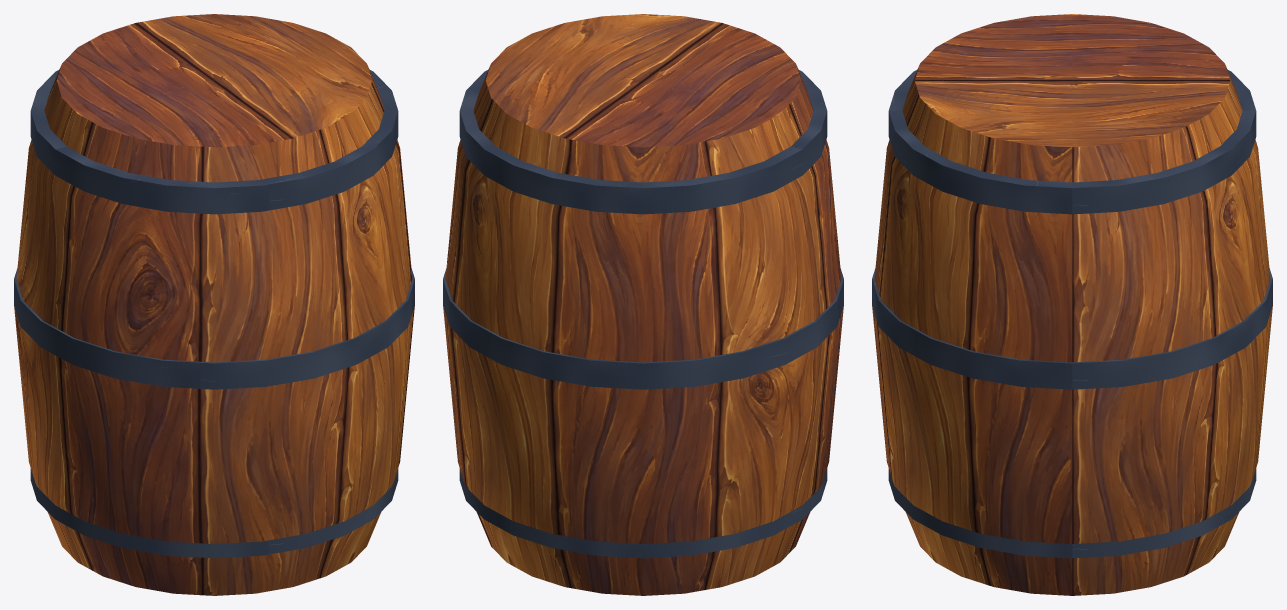
File: Barrel.fbx
3 views of the same model, side by side, from view 1: azimuth 30°, elevation 25°; view 2: azimuth 150°, elevation 25°; view 3: azimuth 270°, elevation 25° (orthographic).
Visible parts, largest first — view 1: Barrel staves, Barrel iron hoop.002, Barrel iron hoop.001, Barrel iron hoop; view 2: Barrel staves, Barrel iron hoop.002, Barrel iron hoop.001, Barrel iron hoop; view 3: Barrel staves, Barrel iron hoop.002, Barrel iron hoop.001, Barrel iron hoop.
Boxes of the visible parts, bbox=[...] form: Barrel staves: bbox=[14, 14, 414, 595]; Barrel iron hoop.002: bbox=[30, 69, 398, 214]; Barrel iron hoop.001: bbox=[14, 268, 414, 389]; Barrel iron hoop: bbox=[30, 468, 398, 558]; Barrel staves: bbox=[443, 14, 843, 595]; Barrel iron hoop.002: bbox=[459, 69, 827, 214]; Barrel iron hoop.001: bbox=[443, 268, 843, 389]; Barrel iron hoop: bbox=[459, 468, 827, 558]; Barrel staves: bbox=[872, 14, 1272, 595]; Barrel iron hoop.002: bbox=[888, 69, 1256, 214]; Barrel iron hoop.001: bbox=[872, 268, 1272, 389]; Barrel iron hoop: bbox=[888, 468, 1256, 558].
Size of the model in its own units: 97.2 by 120 by 97.2.
